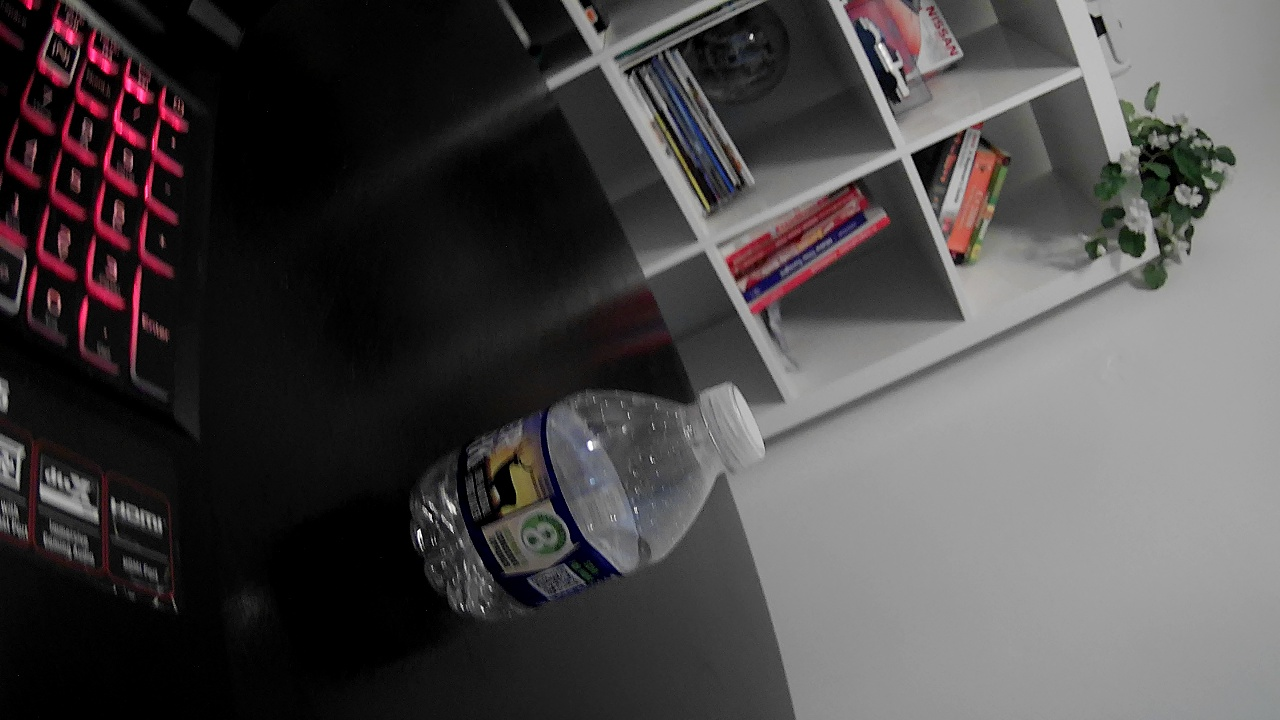recycling: (398, 341, 716, 621)
